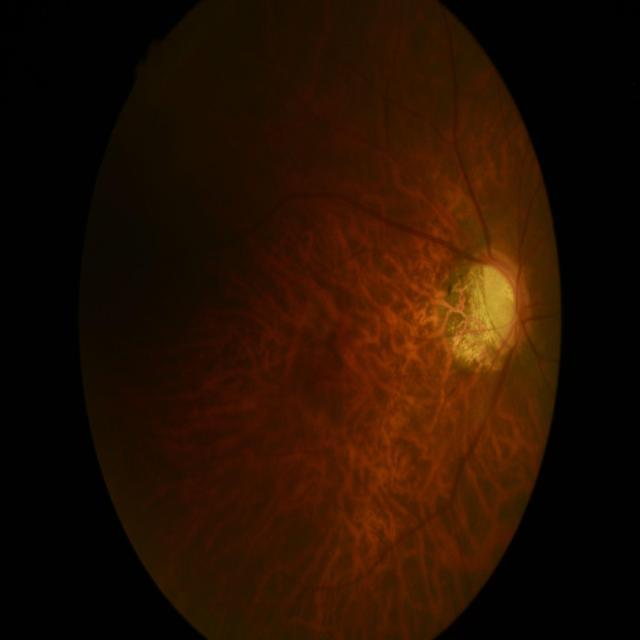cup: (484, 266, 520, 346)
disk: (482, 251, 531, 353)
